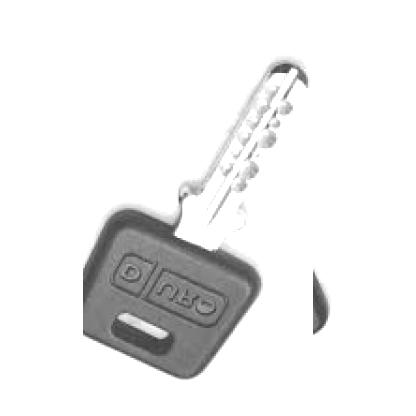key: (83, 46, 313, 381)
